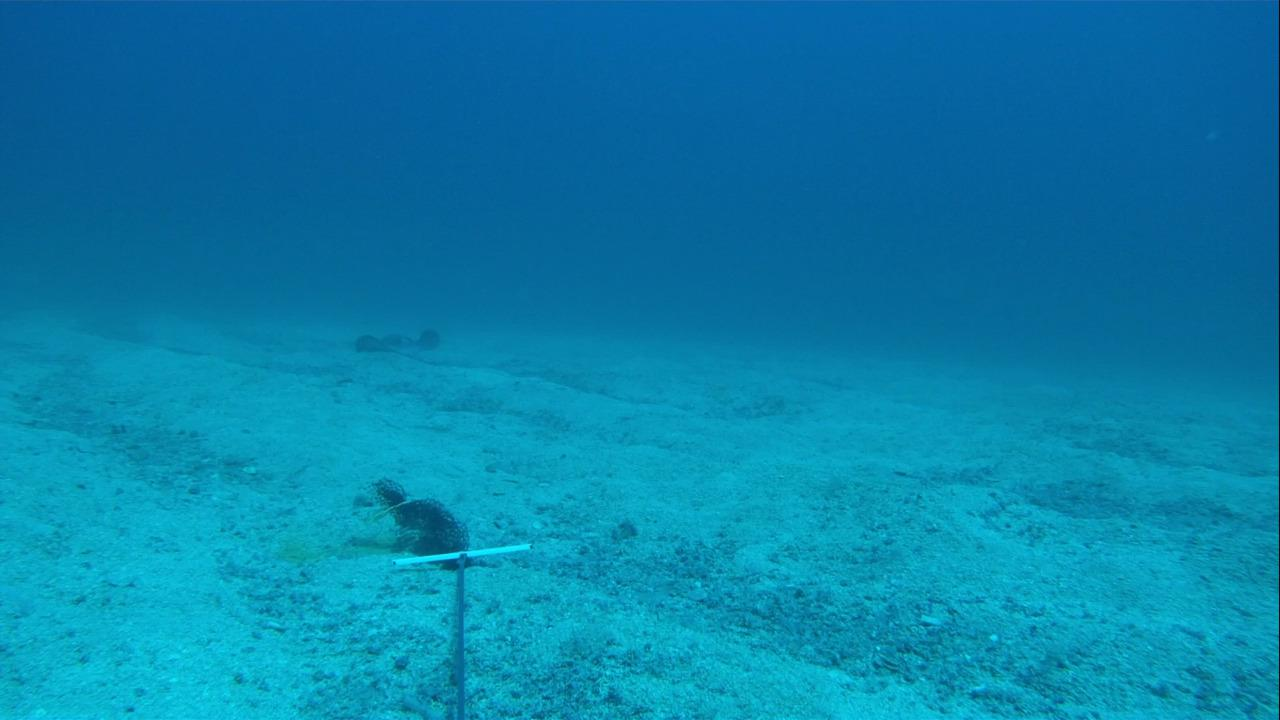myliobatis: (318, 319, 452, 363)
